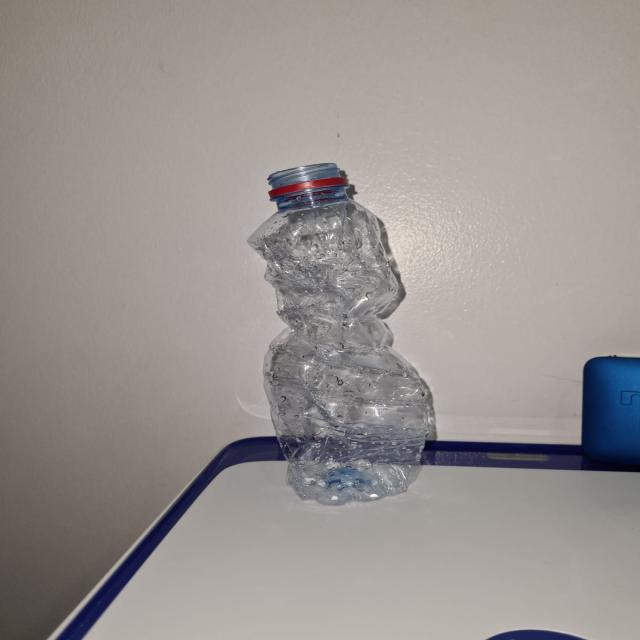plastic bottle: (244, 158, 442, 508)
